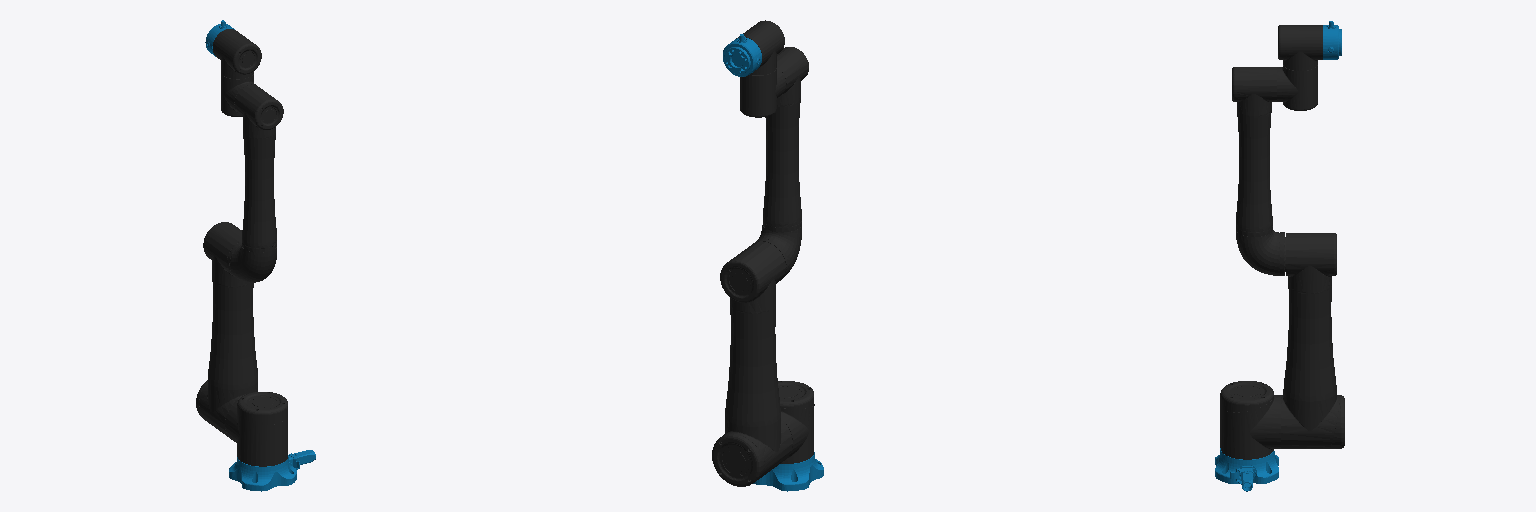
robot.urdf — orion5_v166:
<?xml version="1.0" ?>
<!-- =================================================================================== -->
<!-- |    This document was autogenerated by xacro from /home/mehmet/workspace/orion-5-v1.66-soem-ros1/src/orion5_description/urdf/orion5_v166_robot.xacro | -->
<!-- |    EDITING THIS FILE BY HAND IS NOT RECOMMENDED                                 | -->
<!-- =================================================================================== -->
<robot name="orion5_v166">
    <link name="world" />
    <joint name="world_fixed_joint" type="fixed">
        <origin rpy="0 0 0" xyz="0.0 0.0 0.0" />
        <parent link="world" />
        <child link="base_link" />
    </joint>
    <material name="black">
        <color rgba="0.2 0.2 0.2 1.0" />
    </material>
    <material name="gray">
        <color rgba="0.7 0.7 0.7 1.0" />
    </material>
    <material name="blue">
        <color rgba="0.1 0.5 0.7 1.0" />
    </material>
    <link name="base_link">
        <inertial>
            <origin rpy="0 0 0" xyz="0.0014872 0.025681 0.0015954" />
            <mass value="0.43234" />
            <inertia ixx="0.00085424" ixy="-4.256E-07" ixz="1.7204E-05" iyy="0.0014489" iyz="-3.1849E-07" izz="0.00085002" />
        </inertial>
        <visual>
            <origin rpy="0 0 0.7853981" xyz="0 0 0" />
            <geometry>
                <mesh filename="package://orion5_description/meshes/base_link.STL" />
            </geometry>
            <material name="blue" />
        </visual>
        <collision>
            <origin rpy="0 0 0" xyz="0 0 0" />
            <geometry>
                <mesh filename="package://orion5_description/meshes/base_link.STL" />
            </geometry>
        </collision>
    </link>
    <joint name="joint_1" type="revolute">
        <origin rpy="0 0 0.7853981" xyz="0 0 0.05375" />
        <parent link="base_link" />
        <child link="link_1" />
        <axis xyz="0 0 1" />
        <limit effort="200" lower="-3.14" upper="3.14" velocity="1.57" />
    </joint>
    <link name="link_1">
        <inertial>
            <origin rpy="0 0 0" xyz="0.0031808 0.0031821 0.071259" />
            <mass value="1.4975" />
            <inertia ixx="0.0040437" ixy="-6.2899E-05" ixz="1.9339E-05" iyy="0.0040436" iyz="1.9309E-05" izz="0.0030018" />
        </inertial>
        <visual>
            <origin rpy="0 0 0" xyz="0 0 0" />
            <geometry>
                <mesh filename="package://orion5_description/meshes/link_1.STL" />
            </geometry>
            <material name="black" />
        </visual>
        <collision>
            <origin rpy="0 0 0" xyz="0 0 0" />
            <geometry>
                <mesh filename="package://orion5_description/meshes/link_1.STL" />
            </geometry>
        </collision>
    </link>
    <joint name="joint_2" type="revolute">
        <origin rpy="-1.5708 0 -0.7854" xyz="0.044371 0.044371 0.06825" />
        <parent link="link_1" />
        <child link="link_2" />
        <axis xyz="0 0 1" />
        <limit effort="200" lower="-3.14" upper="3.14" velocity="1.57" />
    </joint>
    <link name="link_2">
        <inertial>
            <origin rpy="0 0 0" xyz="-1.692E-06 -0.17568 0.079937" />
            <mass value="2.8308" />
            <inertia ixx="0.11071" ixy="-4.8422E-07" ixz="2.146E-08" iyy="0.0073217" iyz="-0.00027812" izz="0.10889" />
        </inertial>
        <visual>
            <origin rpy="0 0 0" xyz="0 0 0" />
            <geometry>
                <mesh filename="package://orion5_description/meshes/link_2.STL" />
            </geometry>
            <material name="black" />
        </visual>
        <collision>
            <origin rpy="0 0 0" xyz="0 0 0" />
            <geometry>
                <mesh filename="package://orion5_description/meshes/link_2.STL" />
            </geometry>
        </collision>
    </link>
    <joint name="joint_3" type="revolute">
        <origin rpy="-3.1416 0 0" xyz="0 -0.421 0.02325" />
        <parent link="link_2" />
        <child link="link_3" />
        <axis xyz="0 0 1" />
        <limit effort="200" lower="-3.14" upper="3.14" velocity="1.57" />
    </joint>
    <link name="link_3">
        <inertial>
            <origin rpy="0 0 0" xyz="-1.2999E-06 0.27129 0.063522" />
            <mass value="0.98948" />
            <inertia ixx="0.031382" ixy="2.7771E-07" ixz="3.0716E-08" iyy="0.0014742" iyz="-0.00079138" izz="0.03109" />
        </inertial>
        <visual>
            <origin rpy="0 0 0" xyz="0 0 0" />
            <geometry>
                <mesh filename="package://orion5_description/meshes/link_3.STL" />
            </geometry>
            <material name="black" />
        </visual>
        <collision>
            <origin rpy="0 0 0" xyz="0 0 0" />
            <geometry>
                <mesh filename="package://orion5_description/meshes/link_3.STL" />
            </geometry>
        </collision>
    </link>
    <joint name="joint_4" type="revolute">
        <origin rpy="-3.1416 0 0" xyz="0 0.427 0.018" />
        <parent link="link_3" />
        <child link="link_4" />
        <axis xyz="0 0 1" />
        <limit effort="200" lower="-3.14" upper="3.14" velocity="1.57" />
    </joint>
    <link name="link_4">
        <inertial>
            <origin rpy="0 0 0" xyz="-1.7562E-06 -0.004506 0.050771" />
            <mass value="0.48136" />
            <inertia ixx="0.00067389" ixy="1.7116E-08" ixz="-5.7892E-09" iyy="0.00043343" iyz="3.1677E-06" izz="0.00065749" />
        </inertial>
        <visual>
            <origin rpy="0 0 0" xyz="0 0 0" />
            <geometry>
                <mesh filename="package://orion5_description/meshes/link_4.STL" />
            </geometry>
            <material name="black" />
        </visual>
        <collision>
            <origin rpy="0 0 0" xyz="0 0 0" />
            <geometry>
                <mesh filename="package://orion5_description/meshes/link_4.STL" />
            </geometry>
        </collision>
    </link>
    <joint name="joint_5" type="revolute">
        <origin rpy="1.5708 -0.7854 0" xyz="0 -0.052 0.053" />
        <parent link="link_4" />
        <child link="link_5" />
        <axis xyz="0 0 1" />
        <limit effort="200" lower="-3.14" upper="3.14" velocity="1.57" />
    </joint>
    <link name="link_5">
        <inertial>
            <origin rpy="0 0 0" xyz="-0.0027756 -0.0027765 0.045462" />
            <mass value="0.14213" />
            <inertia ixx="0.00024312" ixy="-2.5529E-05" ixz="4.2492E-06" iyy="0.00024312" iyz="4.2479E-06" izz="0.00025787" />
        </inertial>
        <visual>
            <origin rpy="0 0 0" xyz="0 0 0" />
            <geometry>
                <mesh filename="package://orion5_description/meshes/link_5.STL" />
            </geometry>
            <material name="black" />
        </visual>
        <collision>
            <origin rpy="0 0 0" xyz="0 0 0" />
            <geometry>
                <mesh filename="package://orion5_description/meshes/link_5.STL" />
            </geometry>
        </collision>
    </link>
    <joint name="joint_6" type="revolute">
        <origin rpy="-1.5708 0 -0.7854" xyz="0.031289 0.031289 0.053" />
        <parent link="link_5" />
        <child link="link_6" />
        <axis xyz="0 0 -1" />
        <limit effort="200" lower="-3.14" upper="3.14" velocity="1.57" />
    </joint>
    <link name="link_6">
        <inertial>
            <origin rpy="0 0 0" xyz="3.4997E-05 -0.0004436 0.026453" />
            <mass value="0.17016" />
            <inertia ixx="0.00010068" ixy="-2.2848E-09" ixz="-1.1663E-07" iyy="9.7385E-05" iyz="-1.0309E-07" izz="0.00015192" />
        </inertial>
        <visual>
            <origin rpy="0 0 0" xyz="0 0 0" />
            <geometry>
                <mesh filename="package://orion5_description/meshes/link_6.STL" />
            </geometry>
            <material name="blue" />
        </visual>
        <collision>
            <origin rpy="0 0 0" xyz="0 0 0" />
            <geometry>
                <mesh filename="package://orion5_description/meshes/link_6.STL" />
            </geometry>
        </collision>
    </link>
    <joint name="eef_tcp" type="fixed">
        <origin rpy="0 0 0" xyz="0 0 0.047" />
        <parent link="link_6" />
        <child link="eef_tcp_link" />
    </joint>
    <link name="eef_tcp_link" />
    <transmission name="j1_transmission">
        <type>transmission_interface/SimpleTransmission</type>
        <joint name="joint_1">
            <hardwareInterface>hardware_interface/PositionJointInterface</hardwareInterface>
        </joint>
        <actuator name="j1_actuator">
            <hardwareInterface>hardware_interface/PositionJointInterface</hardwareInterface>
            <mechanicalReduction>1</mechanicalReduction>
        </actuator>
    </transmission>
    <transmission name="j2_transmission">
        <type>transmission_interface/SimpleTransmission</type>
        <joint name="joint_2">
            <hardwareInterface>hardware_interface/PositionJointInterface</hardwareInterface>
        </joint>
        <actuator name="j2_actuator">
            <hardwareInterface>hardware_interface/PositionJointInterface</hardwareInterface>
            <mechanicalReduction>1</mechanicalReduction>
        </actuator>
    </transmission>
    <transmission name="j3_transmission">
        <type>transmission_interface/SimpleTransmission</type>
        <joint name="joint_3">
            <hardwareInterface>hardware_interface/PositionJointInterface</hardwareInterface>
        </joint>
        <actuator name="j3_actuator">
            <hardwareInterface>hardware_interface/PositionJointInterface</hardwareInterface>
            <mechanicalReduction>1</mechanicalReduction>
        </actuator>
    </transmission>
    <transmission name="j4_transmission">
        <type>transmission_interface/SimpleTransmission</type>
        <joint name="joint_4">
            <hardwareInterface>hardware_interface/PositionJointInterface</hardwareInterface>
        </joint>
        <actuator name="j4_actuator">
            <hardwareInterface>hardware_interface/PositionJointInterface</hardwareInterface>
            <mechanicalReduction>1</mechanicalReduction>
        </actuator>
    </transmission>
    <transmission name="j5_transmission">
        <type>transmission_interface/SimpleTransmission</type>
        <joint name="joint_5">
            <hardwareInterface>hardware_interface/PositionJointInterface</hardwareInterface>
        </joint>
        <actuator name="j5_actuator">
            <hardwareInterface>hardware_interface/PositionJointInterface</hardwareInterface>
            <mechanicalReduction>1</mechanicalReduction>
        </actuator>
    </transmission>
    <transmission name="j6_transmission">
        <type>transmission_interface/SimpleTransmission</type>
        <joint name="joint_6">
            <hardwareInterface>hardware_interface/PositionJointInterface</hardwareInterface>
        </joint>
        <actuator name="j6_actuator">
            <hardwareInterface>hardware_interface/PositionJointInterface</hardwareInterface>
            <mechanicalReduction>1</mechanicalReduction>
        </actuator>
    </transmission>
    <!-- Gazebo ROS Control Plugin -->
    <gazebo>
        <plugin filename="libgazebo_ros_control.so" name="gazebo_ros_control">
            <robotNamespace>/</robotNamespace>
        </plugin>
    </gazebo>
    <!-- Gazebo Colors -->
    <gazebo reference="base_link">
        <material>Gazebo/SkyBlue</material>
        <mu1>0.2</mu1>
        <mu2>0.2</mu2>
        <selfCollide>true</selfCollide>
        <gravity>true</gravity>
    </gazebo>
    <gazebo reference="link_1">
        <material>Gazebo/DarkGray</material>
        <mu1>0.2</mu1>
        <mu2>0.2</mu2>
        <selfCollide>true</selfCollide>
    </gazebo>
    <gazebo reference="link_2">
        <material>Gazebo/DarkGray</material>
        <mu1>0.2</mu1>
        <mu2>0.2</mu2>
        <selfCollide>true</selfCollide>
    </gazebo>
    <gazebo reference="link_3">
        <material>Gazebo/DarkGray</material>
        <mu1>0.2</mu1>
        <mu2>0.2</mu2>
        <selfCollide>true</selfCollide>
    </gazebo>
    <gazebo reference="link_4">
        <material>Gazebo/DarkGray</material>
        <mu1>0.2</mu1>
        <mu2>0.2</mu2>
        <selfCollide>true</selfCollide>
    </gazebo>
    <gazebo reference="link_5">
        <material>Gazebo/DarkGray</material>
        <mu1>0.2</mu1>
        <mu2>0.2</mu2>
        <selfCollide>true</selfCollide>
    </gazebo>
    <gazebo reference="link_6">
        <material>Gazebo/SkyBlue</material>
        <mu1>0.2</mu1>
        <mu2>0.2</mu2>
        <selfCollide>true</selfCollide>
    </gazebo>
</robot>

--- What the picture shows (computed from the rendered views, not written in the file) ---
The picture shows the robot from 3 angles, left to right: view 1: azimuth 30°, elevation 25°; view 2: azimuth 150°, elevation 25°; view 3: azimuth 270°, elevation 25°; orthographic projection.
Model orion5_v166 with 9 links and 8 joints (6 revolute, 2 fixed), rooted at world, posed all joints at 0.
Visible links, largest first — view 1: link_2, link_3, link_1, base_link, link_5, link_4; view 2: link_2, link_3, link_1, link_4, base_link, link_5, link_6; view 3: link_2, link_3, link_1, link_5, base_link, link_4, link_6.
Boxes of the visible links, x1,y1,x2,y2 form: link_2: (196, 222, 257, 439); link_3: (227, 85, 283, 282); link_1: (225, 392, 287, 466); base_link: (229, 450, 315, 491); link_5: (213, 29, 261, 78); link_4: (221, 74, 255, 116); link_2: (712, 241, 792, 486); link_3: (756, 47, 808, 280); link_1: (778, 381, 814, 463); link_4: (740, 67, 785, 117); base_link: (753, 452, 823, 491); link_5: (736, 20, 784, 74); link_6: (723, 34, 761, 76); link_2: (1281, 233, 1344, 448); link_3: (1232, 67, 1284, 275); link_1: (1220, 381, 1280, 459); link_5: (1278, 25, 1322, 70); base_link: (1215, 448, 1278, 491); link_4: (1277, 65, 1317, 110); link_6: (1323, 21, 1341, 59).
Size in the robot's own frame: 0.2136 by 0.2948 by 1.13 metres.
Meshes: 7 distinct files referenced, 7 mesh visuals loaded (7 binary STL).
